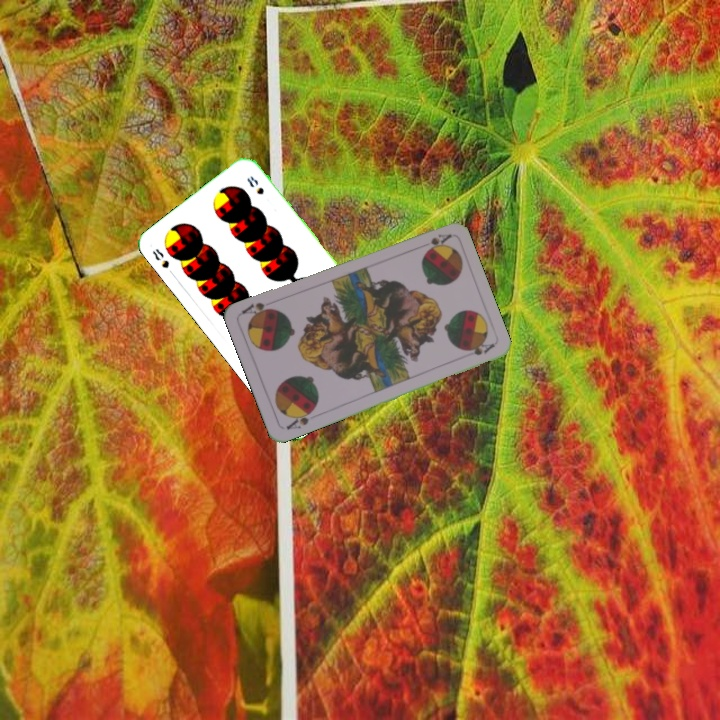S8: (148, 244, 172, 271)
SA: (282, 405, 318, 432), (422, 230, 454, 253)
